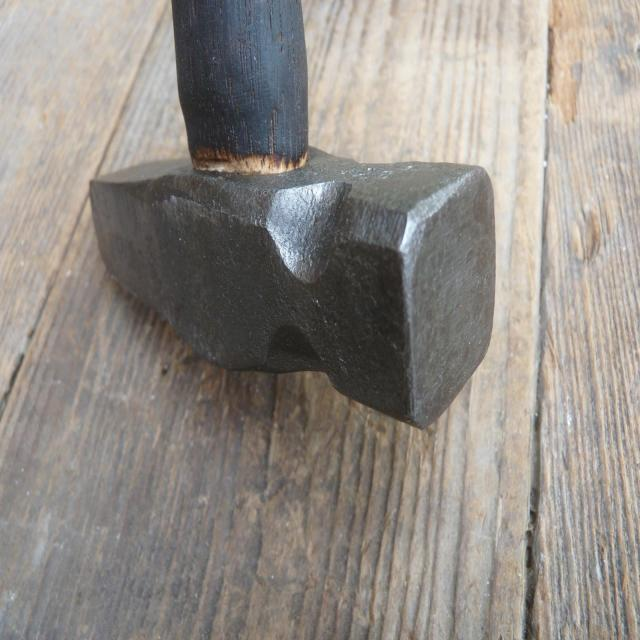hammer: (70, 0, 518, 442)
